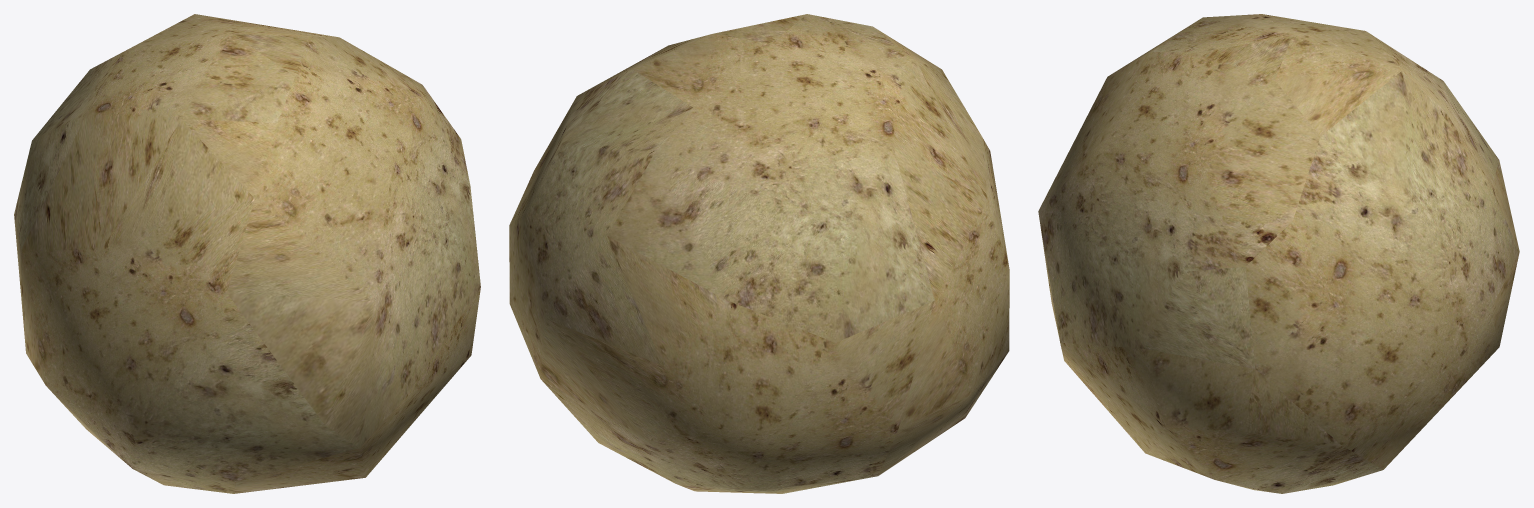
File: Potato.fbx
3 renders of one model, left to right at view 1: azimuth 30°, elevation 25°; view 2: azimuth 150°, elevation 25°; view 3: azimuth 270°, elevation 25°, orthographic. The views are drawn at different scales.
Visible parts, largest first — view 1: Icosphere; view 2: Icosphere; view 3: Icosphere.
Boxes of the visible parts, x1,y1,x2,y2 form: Icosphere: (14,14,480,493); Icosphere: (509,14,1009,493); Icosphere: (1038,14,1519,493).
Bounding box in the file's own units: 185 × 189 × 192.
Materials: 1 (1 with a texture image).
